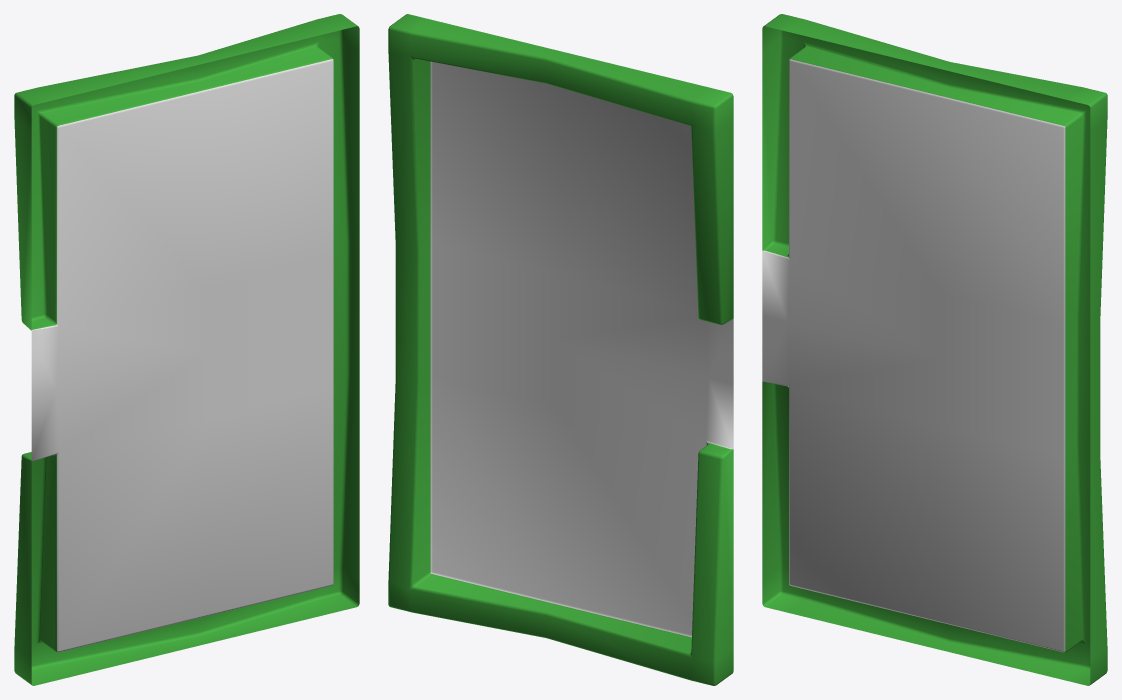
The model's file is BathTubWorkshop.fbx.
3 views of the same model, side by side, from view 1: azimuth 30°, elevation 25°; view 2: azimuth 150°, elevation 25°; view 3: azimuth 330°, elevation 25° (orthographic).
Parts seen in each view (by area): view 1: Cube; view 2: Cube; view 3: Cube.
Boxes of the visible parts, <box> form: Cube: <box>14,14,359,685</box>; Cube: <box>388,14,733,685</box>; Cube: <box>762,14,1107,685</box>.
Bounding box in the file's own units: 1300 × 125 × 2200.
